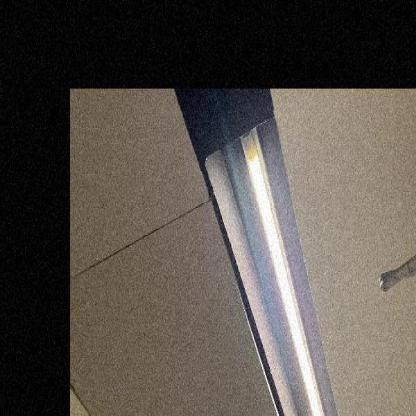light_on: (232, 123, 343, 415)
